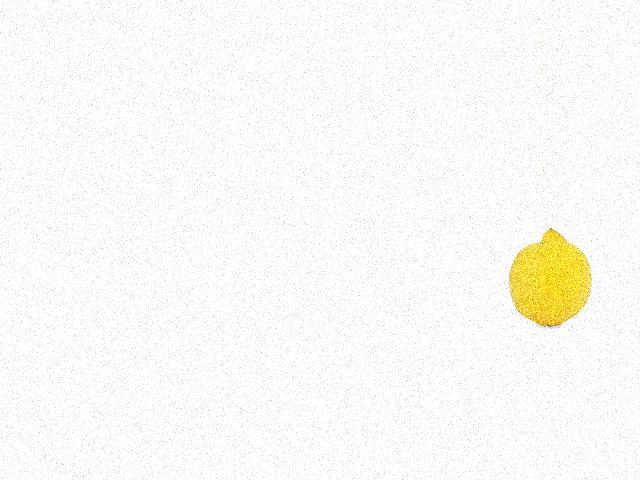lemon: (508, 227, 604, 334)
